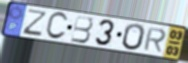3: (94, 18, 117, 47)
B: (69, 14, 94, 44)
C: (44, 11, 70, 41)
O: (121, 22, 146, 51)
R: (142, 27, 168, 54)
Z: (21, 8, 49, 37)
